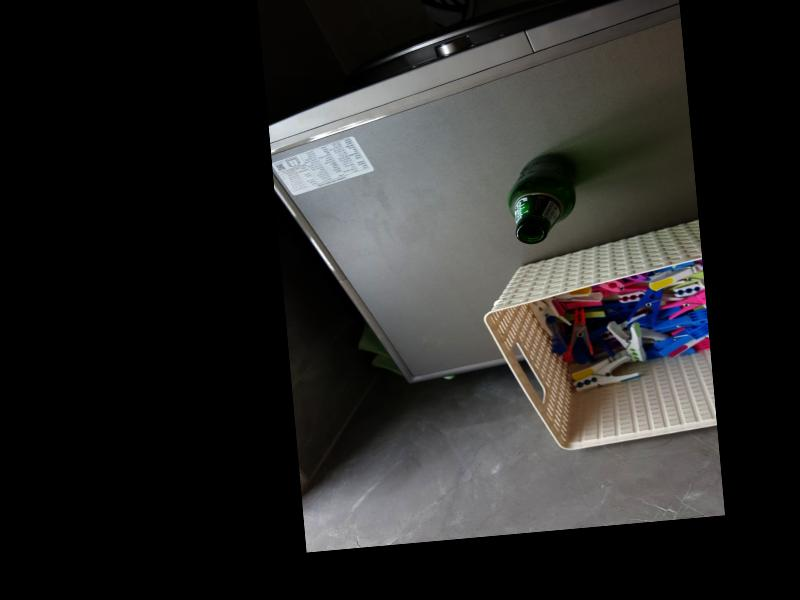Beer: (508, 150, 581, 244)
